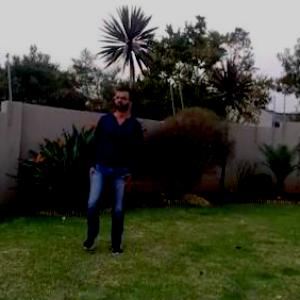follow: (81, 74, 144, 264)
